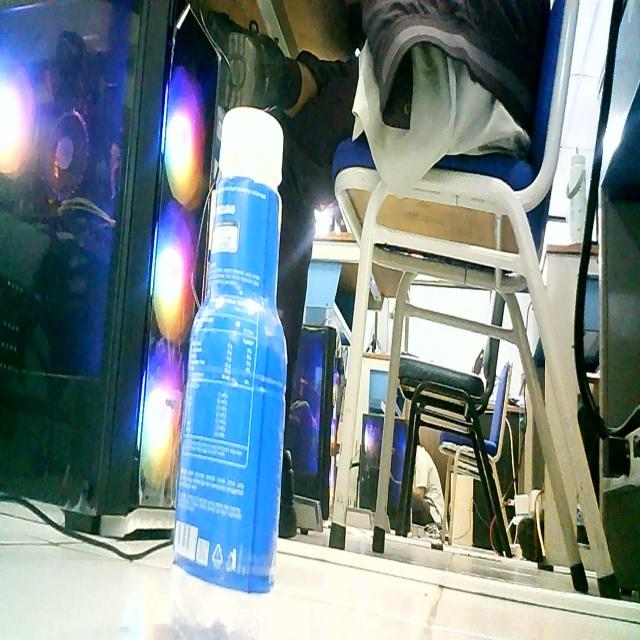botol: (170, 91, 290, 640)
